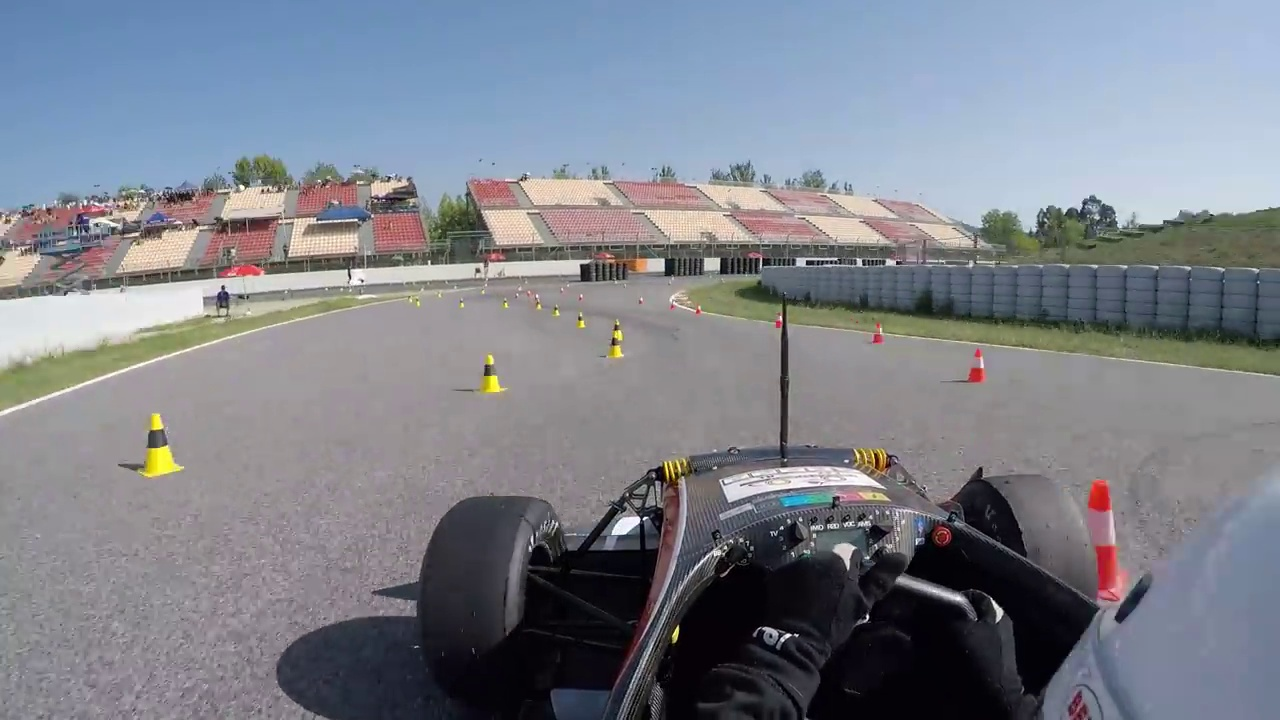Cone: (136, 411, 180, 479), (477, 356, 506, 394), (965, 347, 990, 385), (606, 329, 626, 359)
